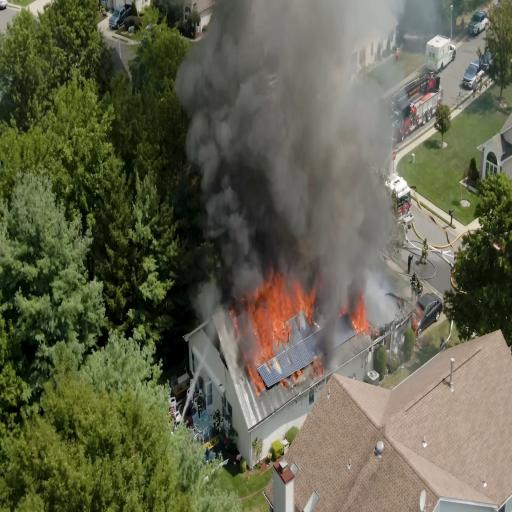fire: (199, 17, 346, 193), (230, 253, 308, 349)
